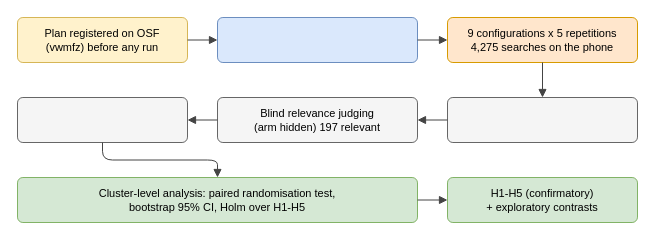
This 655x240 diagram has some shape labels left out. The centre of each missing label's shape, as x and y in pixels:
95 real-use queries (75 name-like, 20 sentence-like): the point at 317,39
Depth-10 pool of all arms 1,442 results: the point at 542,119
Exclusions as registered 77 scored queries, 64 clusters: the point at 102,119
